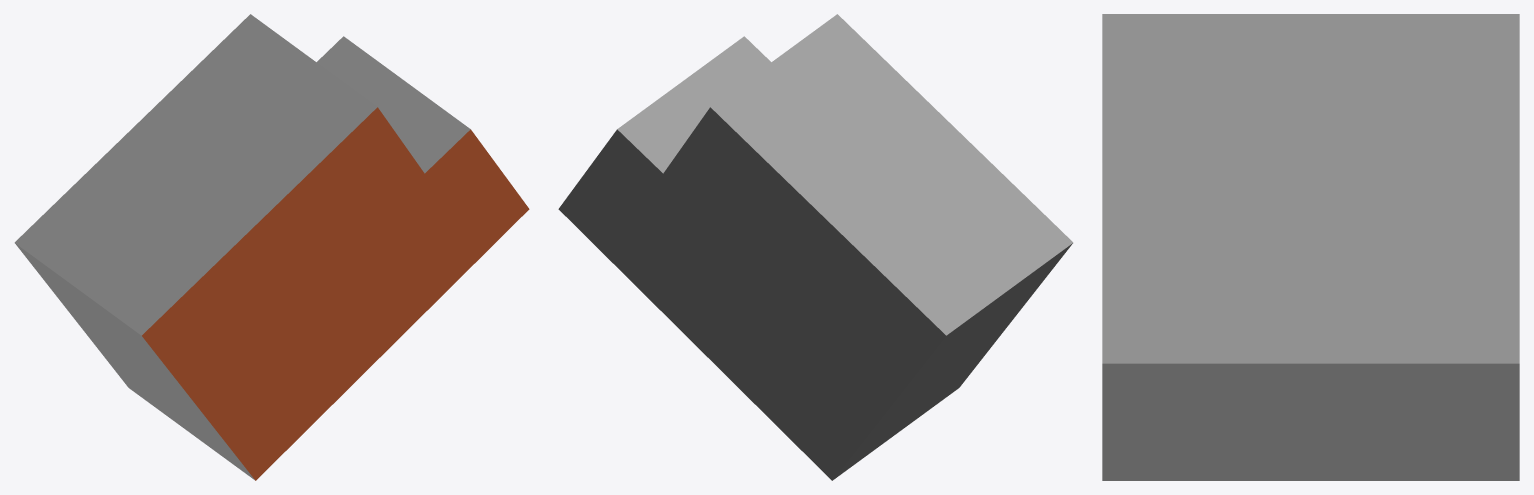
File: construction_3600_assumed_A_Casa_h6m.obj
The picture shows the model from 3 angles, left to right: view 1: azimuth 30°, elevation 25°; view 2: azimuth 150°, elevation 25°; view 3: azimuth 270°, elevation 25°; orthographic projection. The views are drawn at different scales.
Visible parts, largest first — view 1: construction_3600_assumed_A_Casa; view 2: construction_3600_assumed_A_Casa; view 3: construction_3600_assumed_A_Casa.
Boxes of the visible parts, box(x1,y1,x2,y2) form: construction_3600_assumed_A_Casa: box(14, 14, 529, 480); construction_3600_assumed_A_Casa: box(558, 14, 1073, 480); construction_3600_assumed_A_Casa: box(1102, 14, 1519, 480).
Bounding box in the file's own units: 10.56 × 8.96 × 6.
